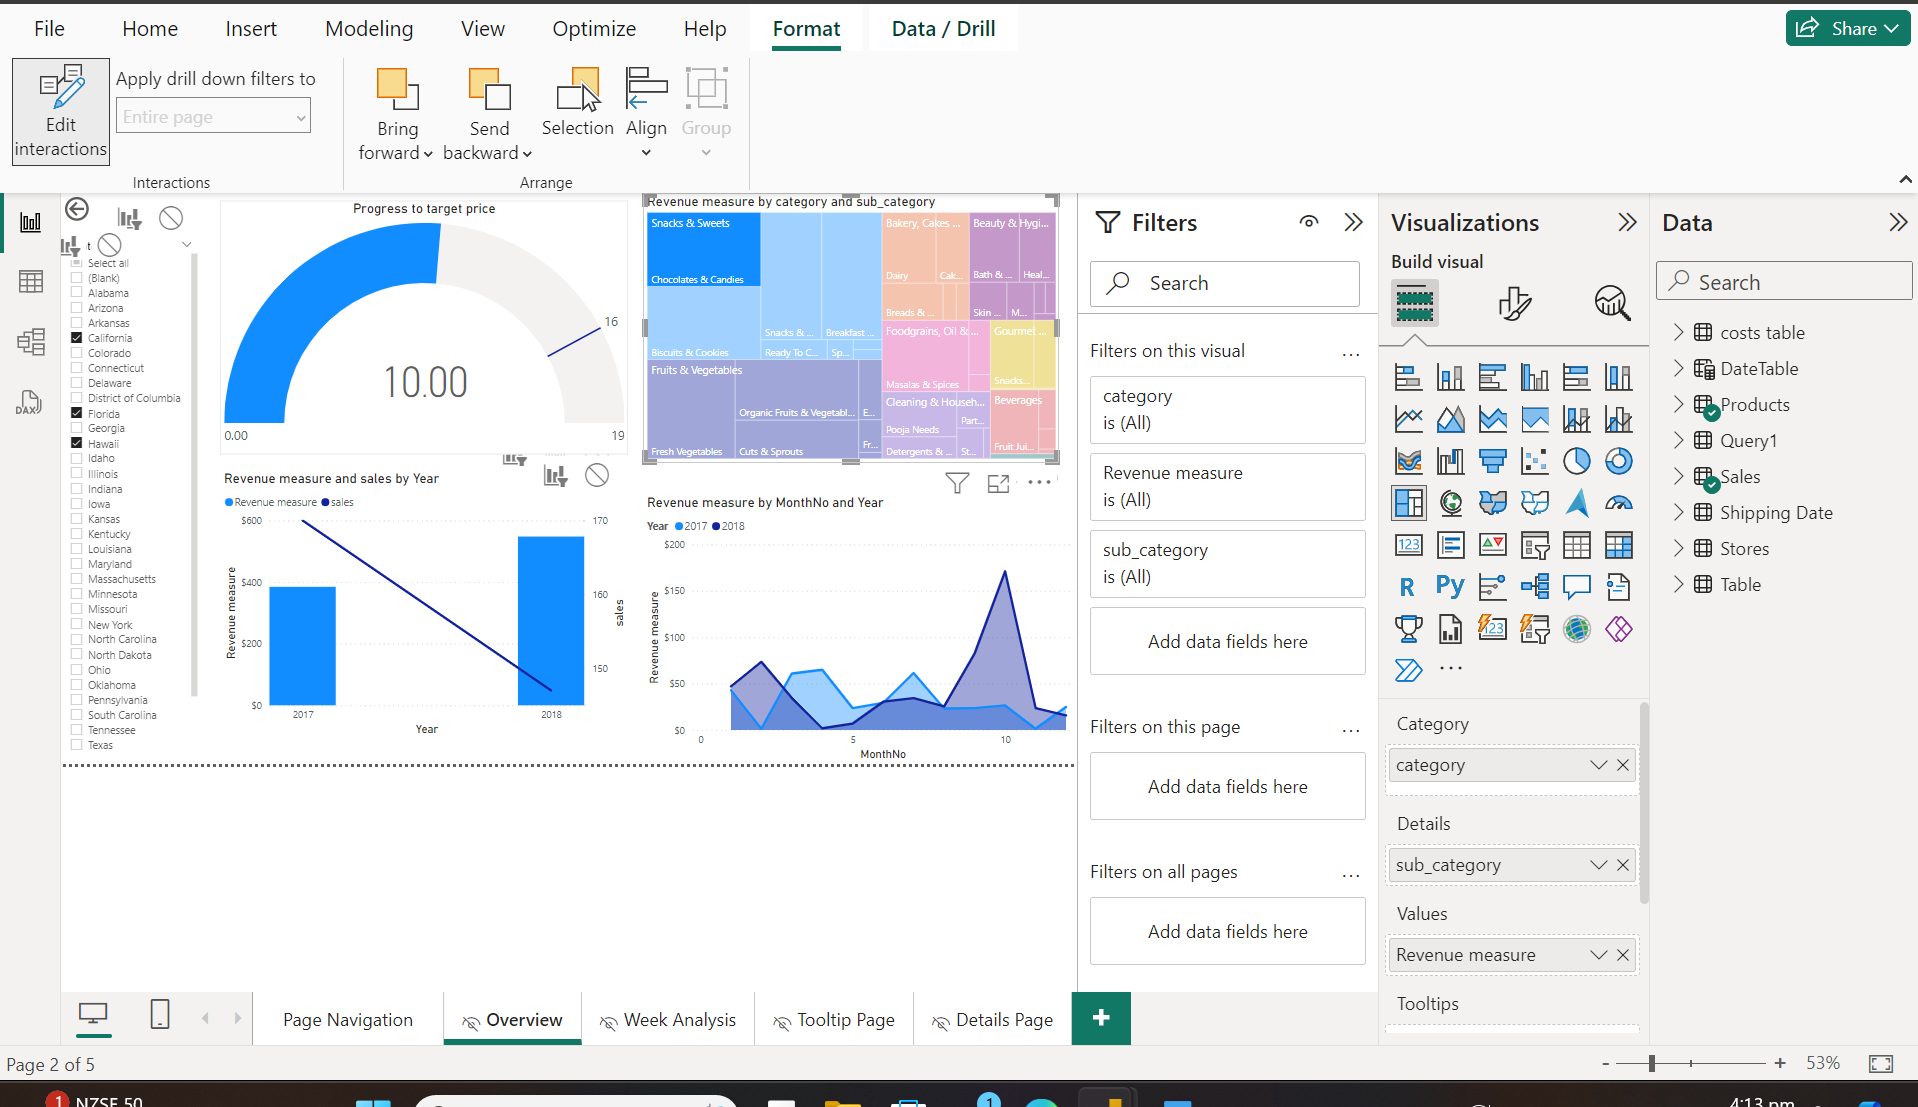

Layout of this report page (visuals, bound fields, positions):
{"tool":"powerbi","page":{"name":"Overview","canvas":[1280,720],"ordinal":1},"visuals":[{"type":"areaChart","fields":{"Category":["DateTable.MonthNo"],"Y":["Sales.Revenue measure"],"Series":["DateTable.Year"]},"box":[732.4,380.3,547.6,339.5],"z":0},{"type":"lineClusteredColumnComboChart","fields":{"Category":["DateTable.Date Hierarchy.Year","DateTable.Date Hierarchy.Quarter","DateTable.Date Hierarchy.MonthName","DateTable.Date Hierarchy.Day"],"Y":["Sales.Revenue measure"],"Y2":["Sum(Sales.sales)"]},"box":[200.4,349.2,514.5,338.5],"z":1000},{"type":"treemap","fields":{"Values":["Sales.Revenue measure"],"Group":["Products.category"],"Details":["Products.sub_category"]},"box":[732.4,0,525.2,339.5],"z":2000},{"type":"gauge","title":"Progress to target price","fields":{"Y":["Sales.Averge"],"MaxValue":["Sales.Max value"],"TargetValue":["Sales.Target value"]},"box":[200.4,9.7,514.5,320],"z":3000},{"type":"slicer","fields":{"Values":["Stores.state"]},"box":[0,53.5,177,654.6],"z":4000},{"type":"actionButton","box":[0,0,100,40],"z":5000}]}

Visuals, with their boxes on the page's 1280x720 design canvas (x1, y1, x2, y2). These are canvas units, not pixel positions in the 1918x1107 screenshot, which may show the page scaled, cropped or inside an application window:
areaChart - DateTable.MonthNo x Sales.Revenue measure: 732,380,1280,720
lineClusteredColumnComboChart - DateTable.Date Hierarchy.Year x DateTable.Date Hierarchy.Quarter: 200,349,715,688
treemap - Sales.Revenue measure x Products.category: 732,0,1258,340
"Progress to target price" gauge: 200,10,715,330
slicer - Stores.state: 0,54,177,708
actionButton: 0,0,100,40
